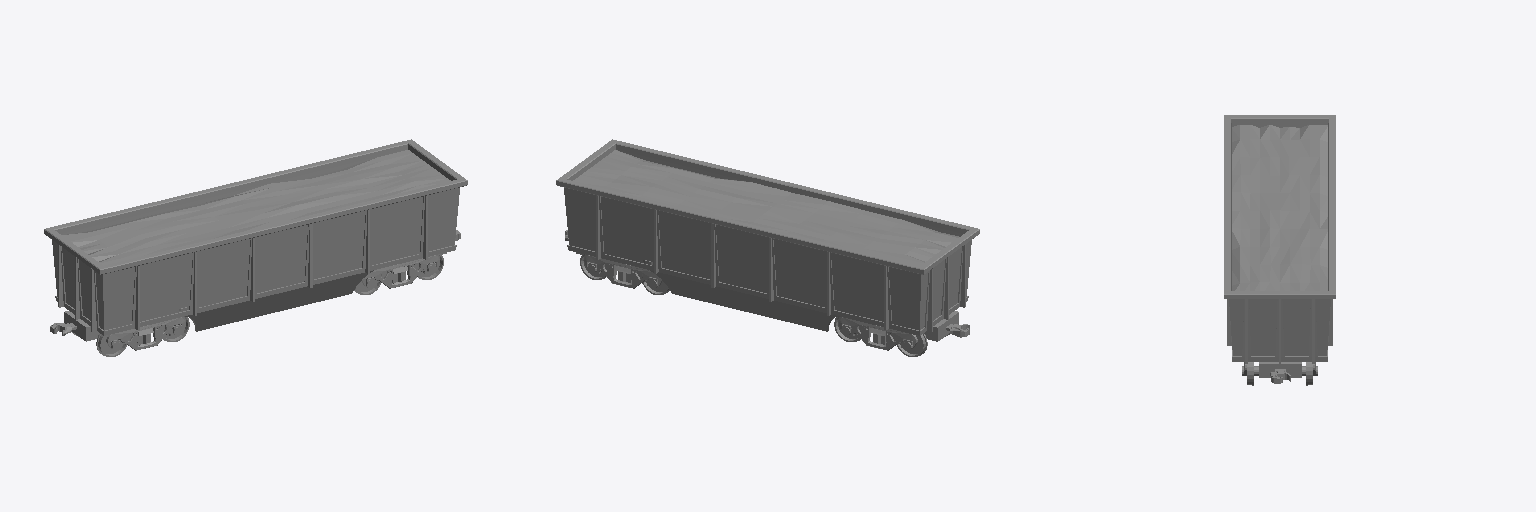
The model's file is train_orecar.obj.
The picture shows the model from 3 angles: view 1: azimuth 30°, elevation 25°; view 2: azimuth 150°, elevation 25°; view 3: azimuth 270°, elevation 25°; orthographic projection.
Parts seen in each view (by area): view 1: (null); view 2: (null); view 3: (null).
Boxes of the visible parts, box(x1,y1,x2,y2) form: (null): box(44, 139, 467, 356); (null): box(556, 139, 979, 356); (null): box(1224, 115, 1335, 385).
Size of the model in its own units: 598 by 146 by 144.